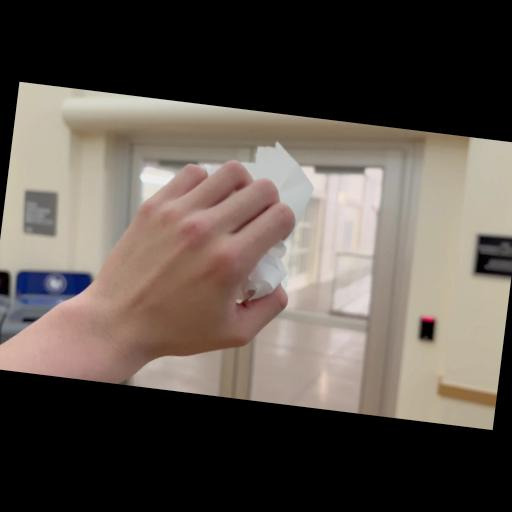napkin: (172, 133, 318, 318)
